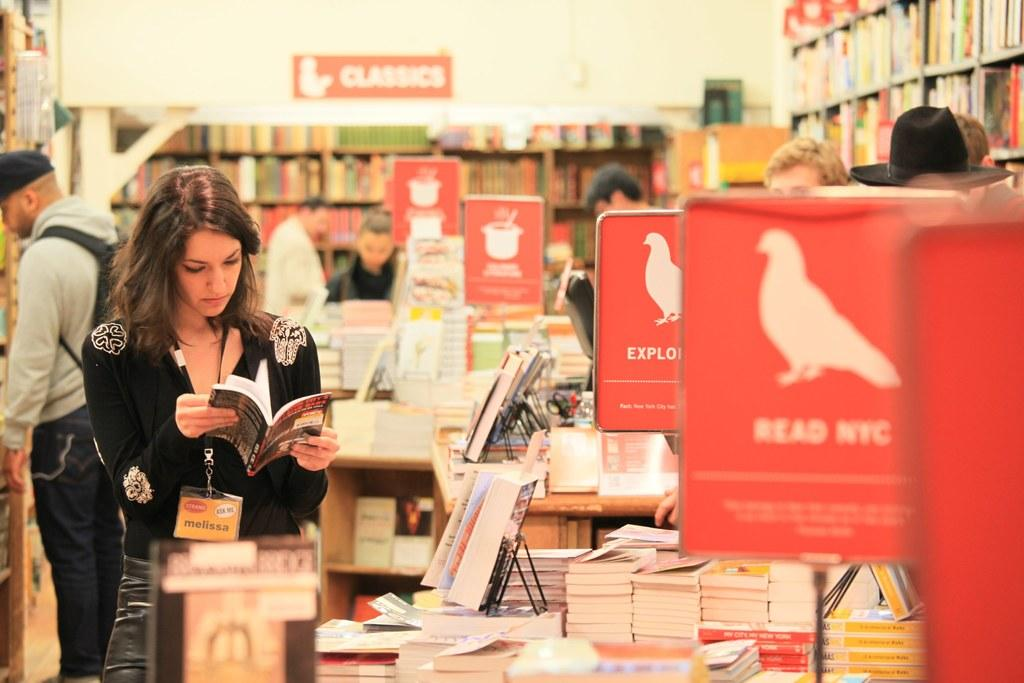Hat: (850, 106, 1010, 191)
